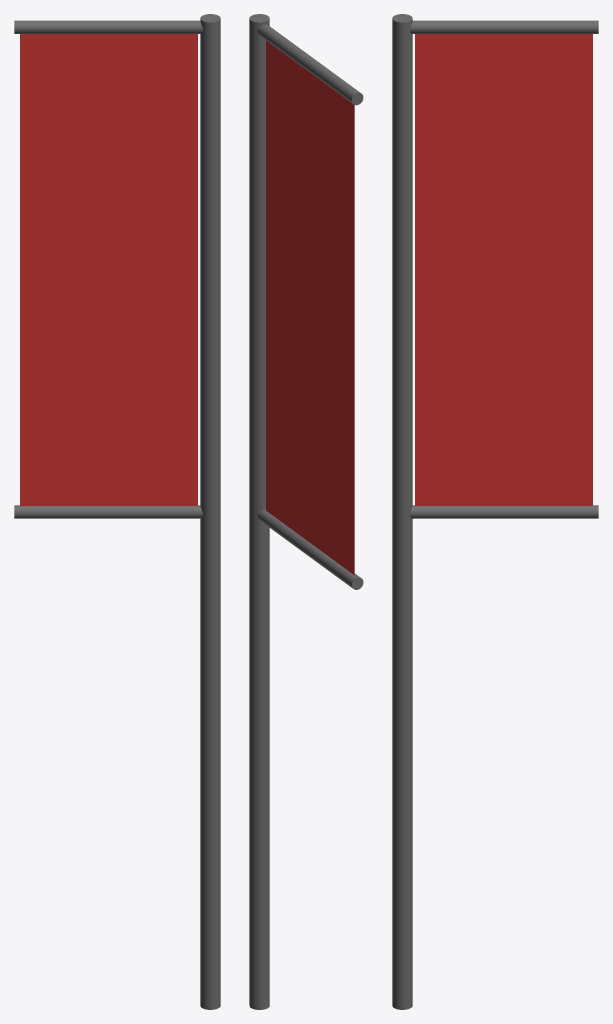
Rendered from flag.glb.
3 renders of one model, left to right at view 1: azimuth 90°, elevation 25°; view 2: azimuth 210°, elevation 25°; view 3: azimuth 270°, elevation 25°, orthographic.
Visible parts, largest first — view 1: Plane, Cylinder, Cylinder.002, Cylinder.001; view 2: Plane, Cylinder, Cylinder.002, Cylinder.001; view 3: Plane, Cylinder, Cylinder.002, Cylinder.001.
Boxes of the visible parts, x1,y1,x2,y2 form: Plane: (20, 34, 197, 505); Cylinder: (200, 14, 220, 1009); Cylinder.002: (14, 20, 202, 33); Cylinder.001: (14, 505, 202, 518); Plane: (266, 40, 354, 574); Cylinder: (249, 14, 269, 1009); Cylinder.002: (257, 24, 363, 105); Cylinder.001: (257, 509, 363, 589); Plane: (415, 34, 592, 505); Cylinder: (392, 14, 412, 1009); Cylinder.002: (410, 20, 598, 33); Cylinder.001: (410, 505, 598, 518).
Size of the model in its own units: 0.1629 by 8.76 by 1.66.
